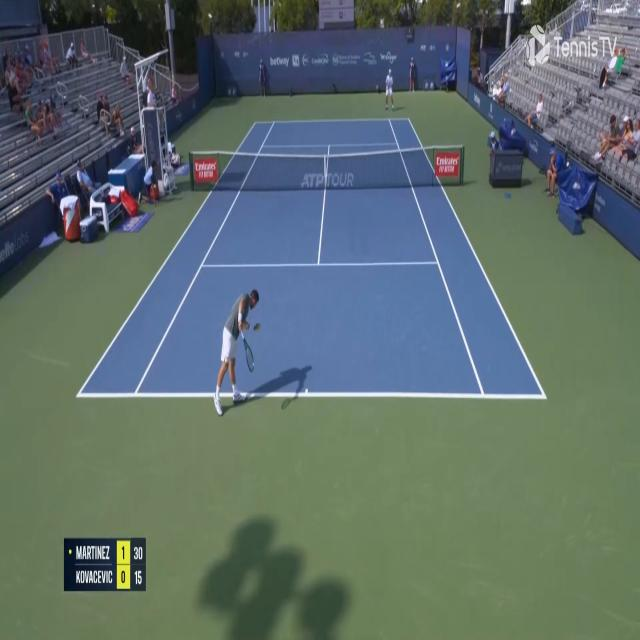tennis-player: (212, 285, 260, 418), (384, 68, 395, 110)
